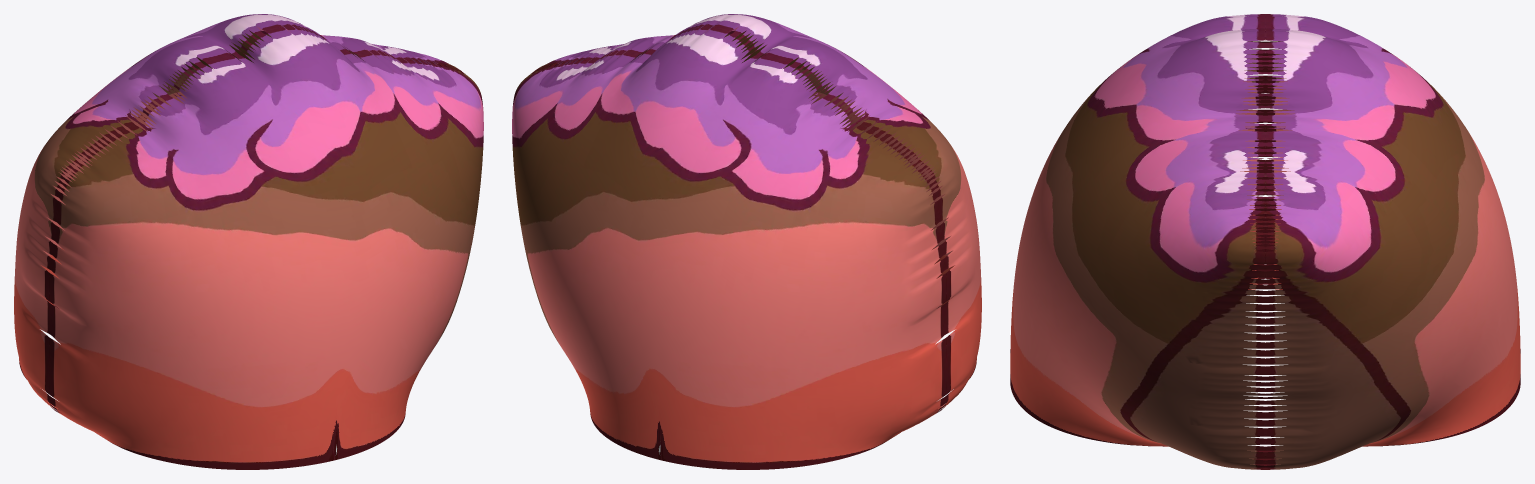
The model's file is rear_crag.glb.
3 views of the same model, side by side, from view 1: azimuth 30°, elevation 25°; view 2: azimuth 150°, elevation 25°; view 3: azimuth 270°, elevation 25° (orthographic). The views are drawn at different scales.
Parts seen in each view (by area): view 1: rear_crag; view 2: rear_crag; view 3: rear_crag.
Boxes of the visible parts, bbox=[...] form: rear_crag: bbox=[14, 14, 483, 469]; rear_crag: bbox=[512, 14, 981, 469]; rear_crag: bbox=[1010, 14, 1520, 469].
Size of the model in its own units: 0.9889 by 0.7534 by 0.9295.
Materials: 1 (1 with a texture image).
